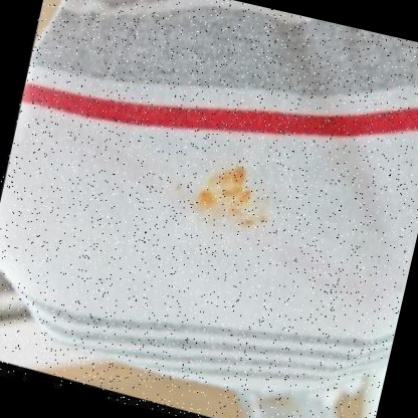kimchi: (189, 162, 282, 238)
